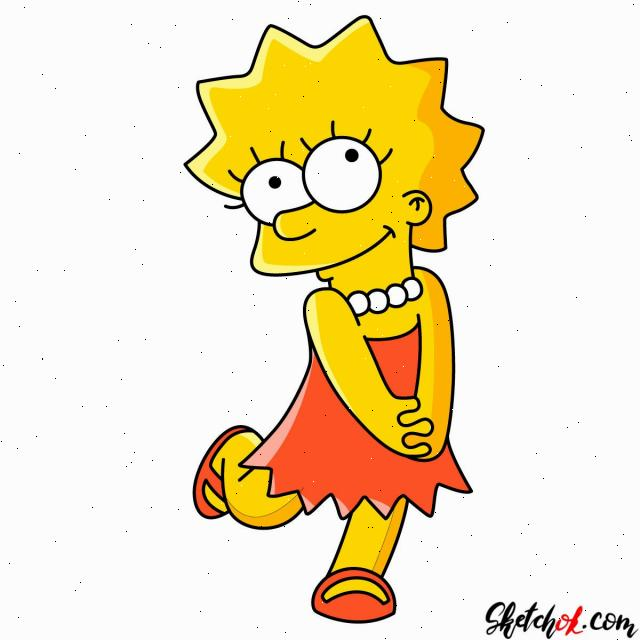Lisa Simpson: (180, 12, 489, 322)
